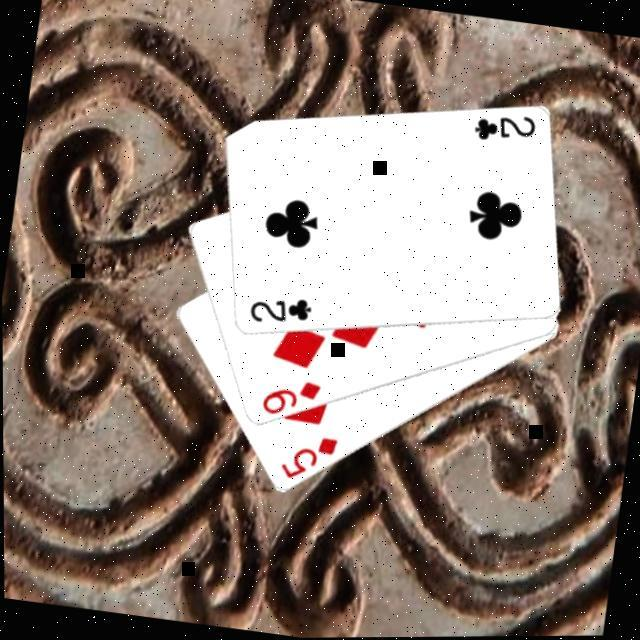2C: (242, 290, 314, 333), (468, 108, 538, 151)
5D: (273, 429, 340, 489)
9D: (255, 373, 323, 425)
